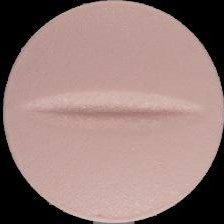54458-980: (0, 0, 224, 224)
